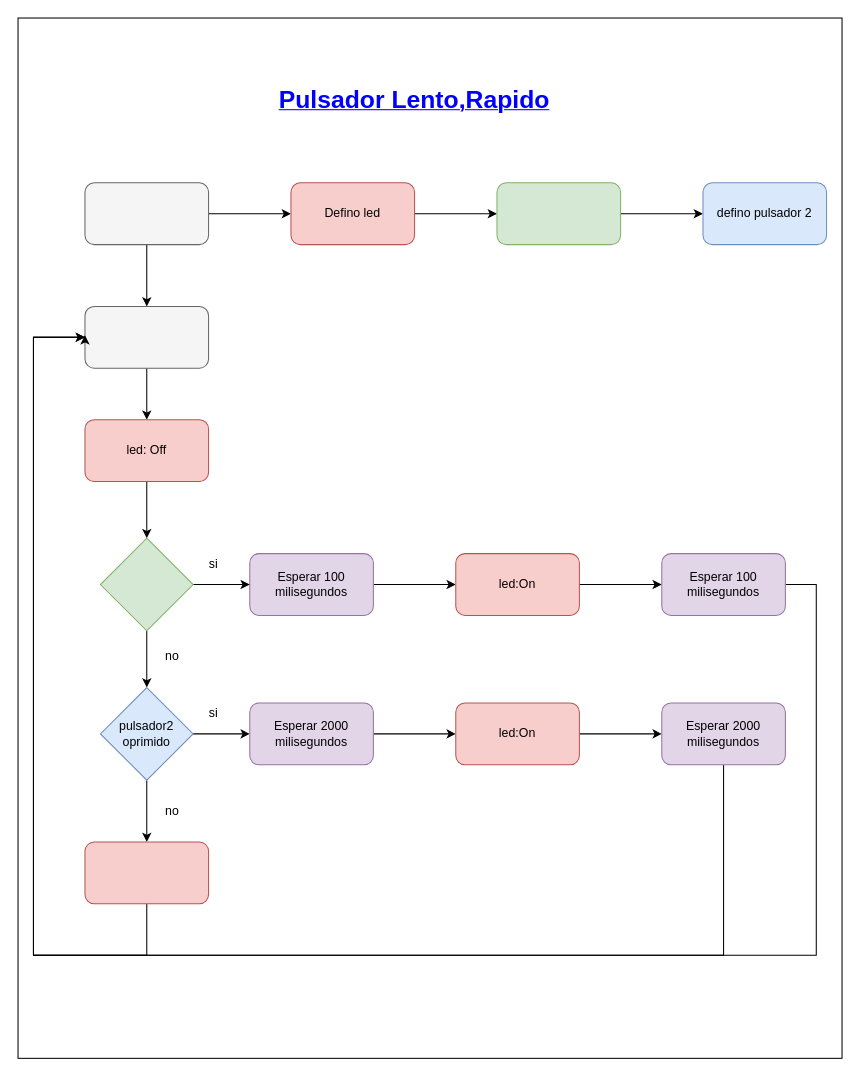
Some shapes in this 860 by 1076 pixel diagram are drawn without their labels. Here are the shapes that lost their labels. From the top down, the centre of each, then its label:
the point at 146,213: setup
the point at 558,213: defino pulsador 1
the point at 146,336: loop
the point at 146,584: pulsador1 oprimido
the point at 146,872: led:off
